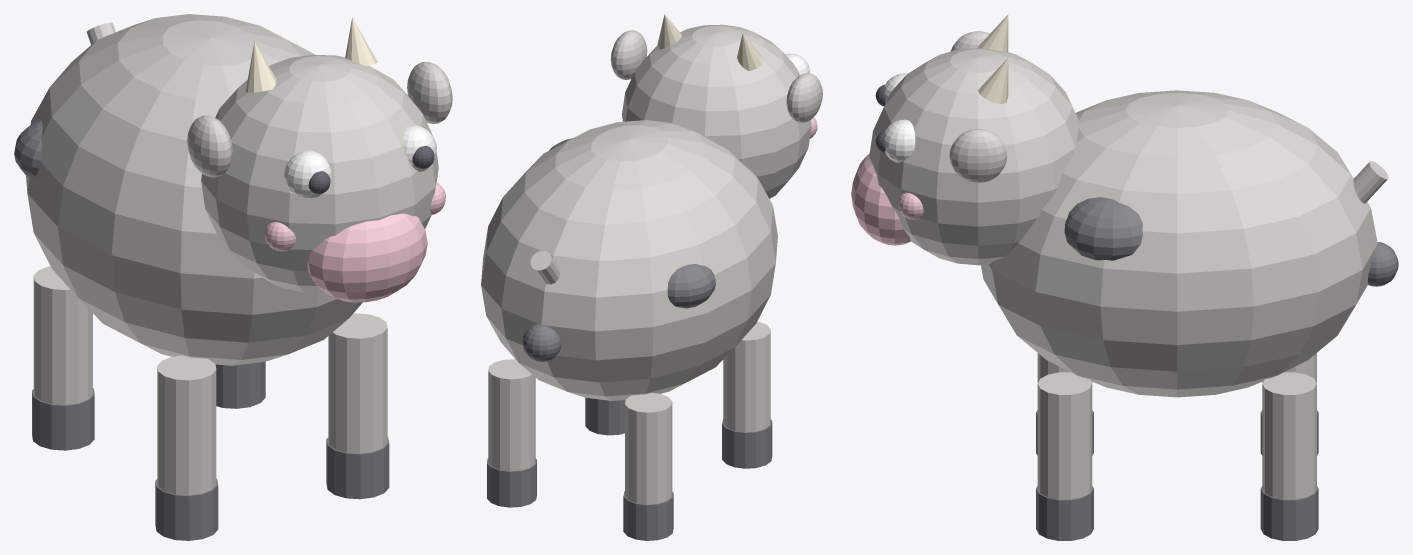
File: cow.glb
The picture shows the model from 3 angles, left to right: view 1: azimuth 30°, elevation 25°; view 2: azimuth 150°, elevation 25°; view 3: azimuth 270°, elevation 25°; orthographic projection. The views are drawn at different scales.
Parts seen in each view (by area): view 1: CowWhite, CowSpot, CowPink, CowEyeWhite, CowCream, CowPupil; view 2: CowWhite, CowSpot, CowCream; view 3: CowWhite, CowSpot, CowPink, CowCream, CowEyeWhite.
Part boxes in pixels (x1,y1,x2,y2): CowWhite: (26,14,452,495); CowSpot: (14,120,389,540); CowPink: (264,182,445,302); CowEyeWhite: (284,125,436,198); CowCream: (245,17,377,92); CowPupil: (308,146,434,194); CowWhite: (481,24,822,504); CowSpot: (487,138,772,540); CowCream: (657,14,763,70); CowWhite: (869,31,1388,499); CowSpot: (1036,197,1398,540); CowPink: (851,153,923,245); CowCream: (978,14,1008,103); CowEyeWhite: (885,73,915,162).
Size of the model in its own units: 1 by 1.57 by 1.71.
